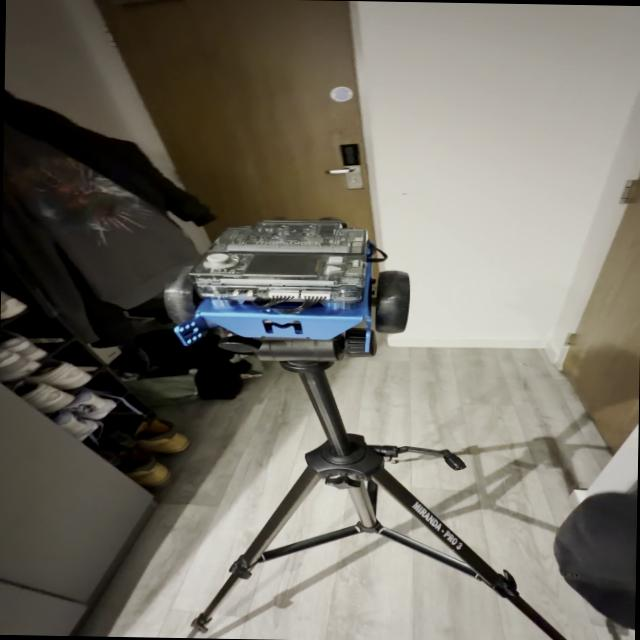mbot-detection: (155, 208, 418, 357)
